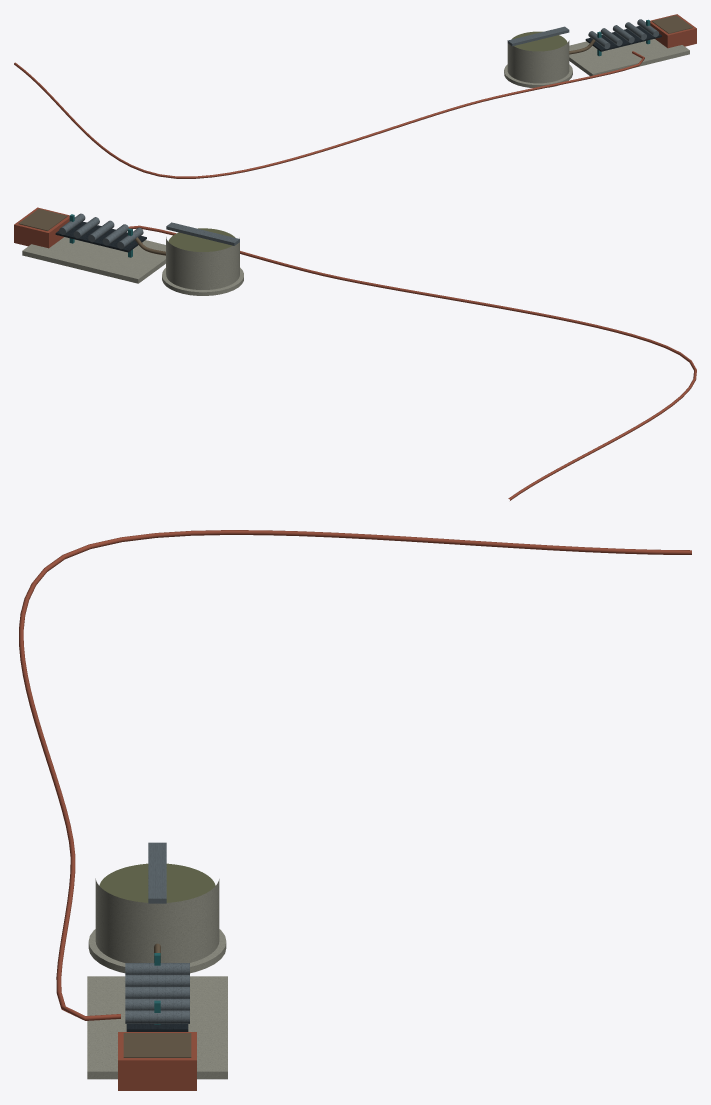
File: water-sludge.c13c119c9e34.glb
The picture shows the model from 3 angles, top to bottom: view 1: azimuth 30°, elevation 25°; view 2: azimuth 150°, elevation 25°; view 3: azimuth 270°, elevation 25°; orthographic projection. The views are drawn at different scales.
Visible parts, largest first — view 1: structure_concrete_00018, structure_warm_00022, structure_steel_00019, thickener_surface_00003, structure_earth_00023, structure_dark_00021; view 2: structure_concrete_00018, structure_warm_00022, structure_steel_00019, thickener_surface_00003, structure_earth_00023, structure_dark_00021; view 3: structure_concrete_00018, structure_warm_00022, structure_steel_00019, thickener_surface_00003, structure_earth_00023.
Part boxes in pixels (box(x1,y1,x2,y2)): structure_concrete_00018: box(504, 39, 689, 87); structure_warm_00022: box(14, 14, 696, 178); structure_steel_00019: box(507, 19, 658, 48); thickener_surface_00003: box(511, 31, 567, 51); structure_earth_00023: box(569, 15, 692, 54); structure_dark_00021: box(585, 26, 661, 51); structure_concrete_00018: box(22, 237, 243, 295); structure_warm_00022: box(14, 207, 696, 500); structure_steel_00019: box(59, 213, 239, 249); thickener_surface_00003: box(168, 228, 235, 251); structure_earth_00023: box(18, 209, 165, 255); structure_dark_00021: box(55, 221, 146, 252); structure_concrete_00018: box(87, 878, 227, 1079); structure_warm_00022: box(19, 530, 691, 1090); structure_steel_00019: box(125, 842, 189, 1023); thickener_surface_00003: box(99, 863, 215, 902); structure_earth_00023: box(123, 943, 191, 1057).
Bounding box in the file's own units: 45.98 × 3.05 × 23.93.
Materials: 7 (3 with a texture image).
